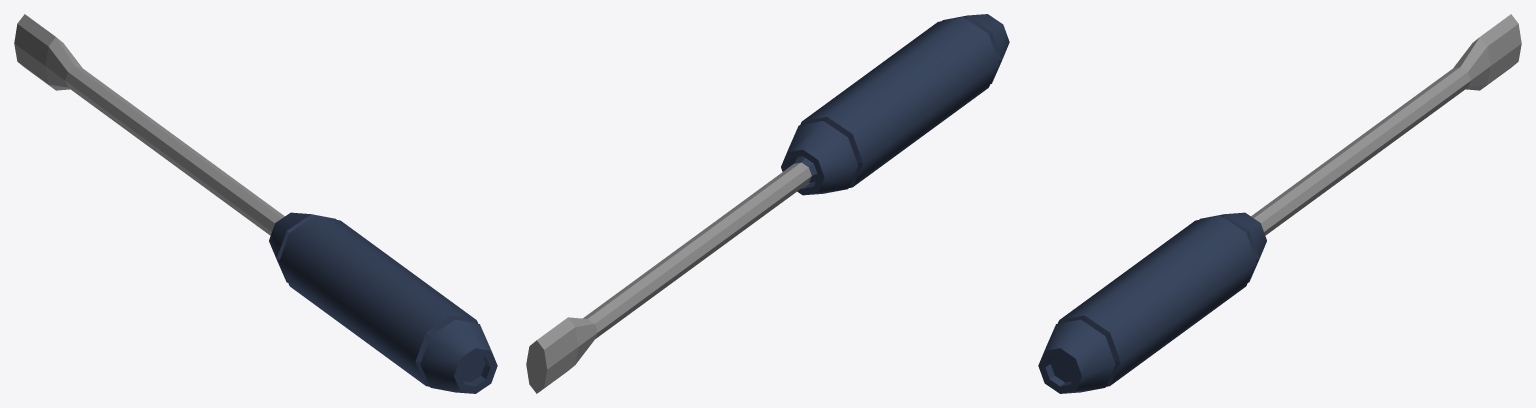
File: SM_screwdriver_02.fbx
The picture shows the model from 3 angles, left to right: view 1: azimuth 30°, elevation 25°; view 2: azimuth 150°, elevation 25°; view 3: azimuth 330°, elevation 25°; orthographic projection.
Visible parts, largest first — view 1: screwdriver_02; view 2: screwdriver_02; view 3: screwdriver_02.
Part boxes in pixels (<box>): screwdriver_02: <box>14,14,497,393</box>; screwdriver_02: <box>526,14,1009,393</box>; screwdriver_02: <box>1038,14,1521,393</box>.
Bounding box in the file's own units: 4.64 × 4.64 × 50.28.
